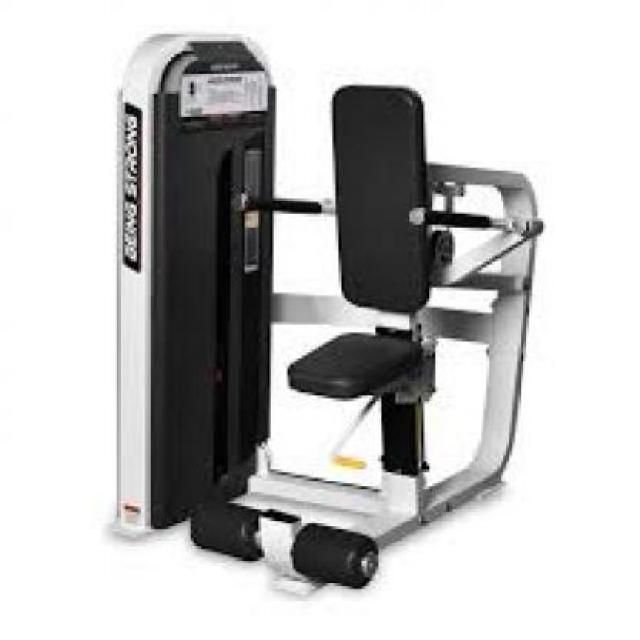seated dip machine: (96, 23, 558, 606)
